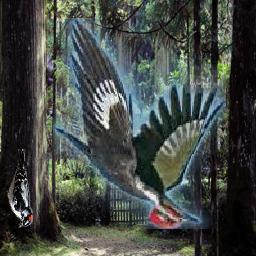Woodpecker: (54, 19, 227, 230), (7, 150, 33, 229)
